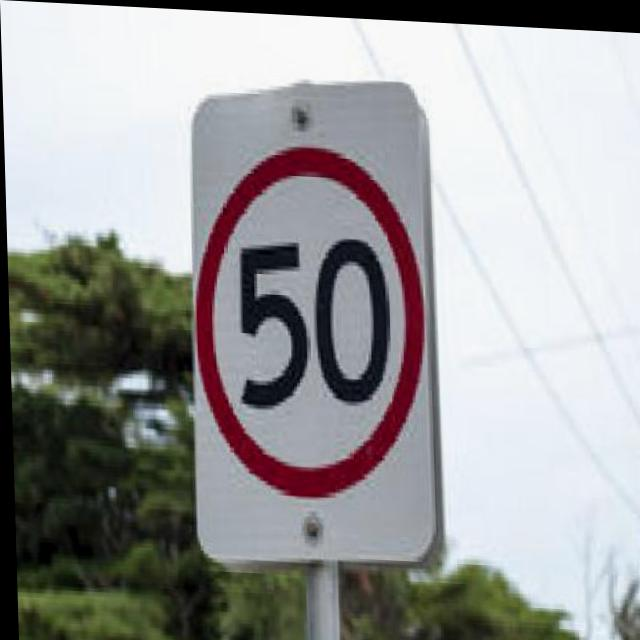Speed limit 50: (176, 132, 426, 502)
